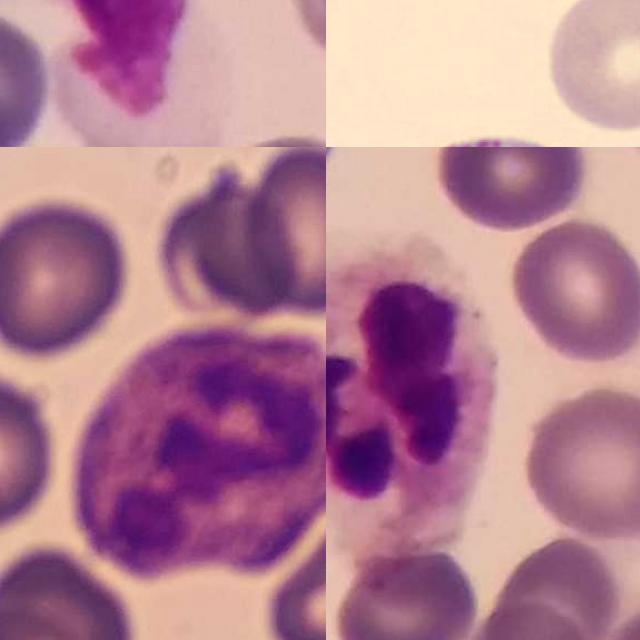Eosinophil: (336, 108, 633, 147)
Monocyte: (0, 0, 230, 147)
Neutrophil: (75, 329, 326, 584), (326, 227, 501, 561)
RBC: (539, 0, 640, 134)
